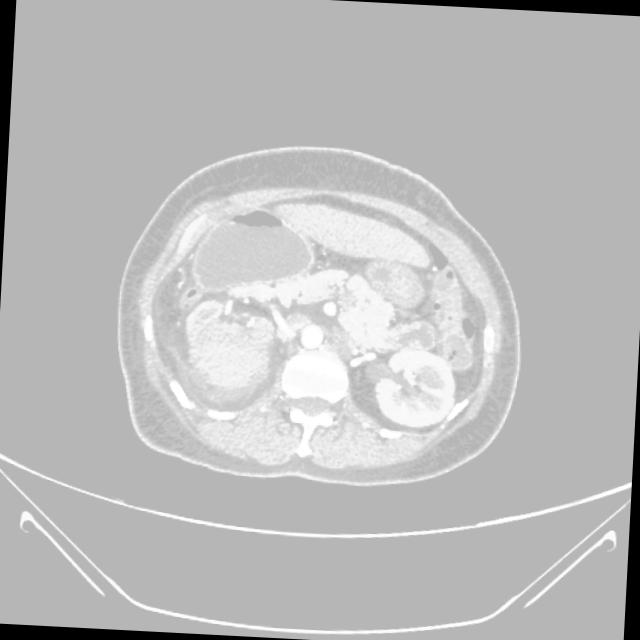TUMOR: (181, 168, 532, 384)
